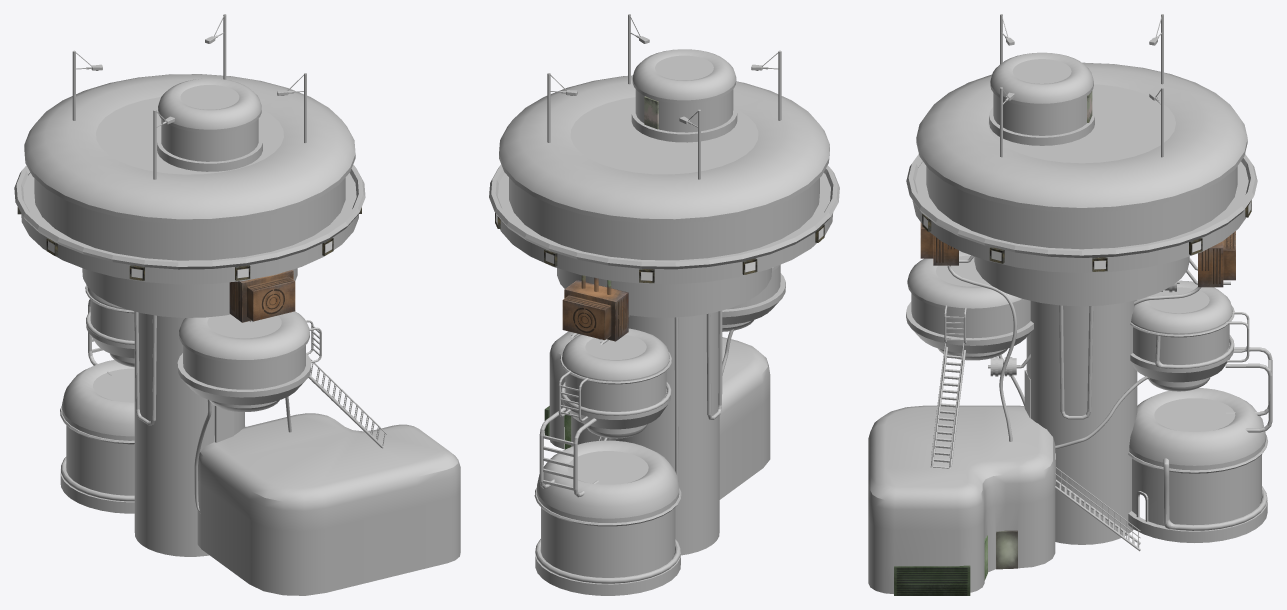
File: N Tower.fbx
3 renders of one model, left to right at view 1: azimuth 30°, elevation 25°; view 2: azimuth 150°, elevation 25°; view 3: azimuth 270°, elevation 25°, orthographic.
Parts seen in each view (by area): view 1: Cylinder.002, Cube, Cylinder, Cylinder.004, Cylinder.001, Cylinder.007, Cylinder.031, Cube.022, Cylinder.003, Cylinder.032, NurbsPath.018, Cube.026 (+3 smaller); view 2: Cylinder.002, Cylinder.001, Cylinder, Cube, Cylinder.003, Cylinder.007, Cylinder.031, Cube.024, Cylinder.004, Cylinder.032, Cylinder.005, Cylinder.029 (+6 smaller); view 3: Cylinder.002, Cube, Cylinder, Cylinder.001, Cylinder.004, Cylinder.007, Cylinder.003, Cylinder.031, Cube.025, NurbsPath.027, Cube.024, Cylinder.005 (+11 smaller).
Part boxes in pixels (left/top/right/bottom): Cylinder.002: left=21, top=74, right=358, bottom=284; Cube: left=197, top=413, right=460, bottom=595; Cylinder: left=82, top=268, right=297, bottom=556; Cylinder.004: left=177, top=311, right=311, bottom=411; Cylinder.001: left=60, top=360, right=134, bottom=513; Cylinder.007: left=157, top=78, right=262, bottom=171; Cylinder.031: left=14, top=164, right=365, bottom=269; Cube.022: left=229, top=269, right=295, bottom=322; Cylinder.003: left=86, top=287, right=134, bottom=367; Cylinder.032: left=72, top=14, right=306, bottom=179; NurbsPath.018: left=134, top=311, right=156, bottom=425; Cube.026: left=17, top=207, right=361, bottom=280; Cylinder.002: left=498, top=75, right=832, bottom=284; Cylinder.001: left=535, top=440, right=680, bottom=595; Cylinder: left=557, top=268, right=771, bottom=555; Cube: left=549, top=331, right=770, bottom=499; Cylinder.003: left=561, top=328, right=670, bottom=438; Cylinder.007: left=631, top=49, right=737, bottom=142; Cylinder.031: left=489, top=164, right=839, bottom=269; Cube.024: left=562, top=275, right=628, bottom=341; Cylinder.004: left=722, top=264, right=785, bottom=331; Cylinder.032: left=547, top=14, right=781, bottom=179; Cylinder.005: left=535, top=539, right=680, bottom=583; Cylinder.029: left=560, top=352, right=671, bottom=415; Cylinder.002: left=912, top=62, right=1248, bottom=272; Cube: left=868, top=405, right=1055, bottom=593; Cylinder: left=974, top=256, right=1189, bottom=544; Cylinder.001: left=1128, top=388, right=1267, bottom=542; Cylinder.004: left=906, top=250, right=1033, bottom=360; Cylinder.007: left=989, top=52, right=1094, bottom=145; Cylinder.003: left=1130, top=280, right=1233, bottom=391; Cylinder.031: left=906, top=154, right=1257, bottom=257; Cube.025: left=894, top=565, right=970, bottom=595; NurbsPath.027: left=947, top=265, right=1201, bottom=449; Cube.024: left=1198, top=231, right=1235, bottom=287; Cylinder.005: left=1163, top=458, right=1267, bottom=530.
Size of the model in its own units: 3430 by 4701 by 3664.
